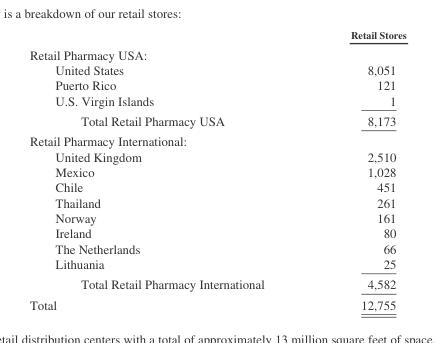table: (29, 28, 405, 311)
table column: (29, 28, 306, 311), (306, 28, 405, 311)
table column header: (29, 28, 405, 43)
table projected row header: (29, 43, 405, 61), (29, 130, 405, 148)
table row: (29, 273, 405, 294), (29, 110, 405, 130), (29, 43, 405, 61), (29, 92, 405, 110), (29, 130, 405, 148), (29, 256, 405, 273), (29, 294, 405, 311), (29, 61, 405, 77), (29, 148, 405, 164), (29, 194, 405, 210), (29, 240, 405, 256), (29, 28, 405, 43), (29, 77, 405, 92), (29, 164, 405, 179), (29, 179, 405, 194), (29, 210, 405, 225), (29, 225, 405, 240)
